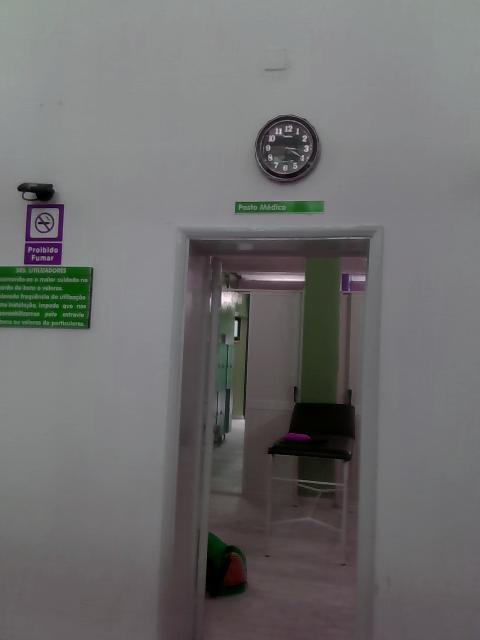open_door: (157, 220, 383, 639)
